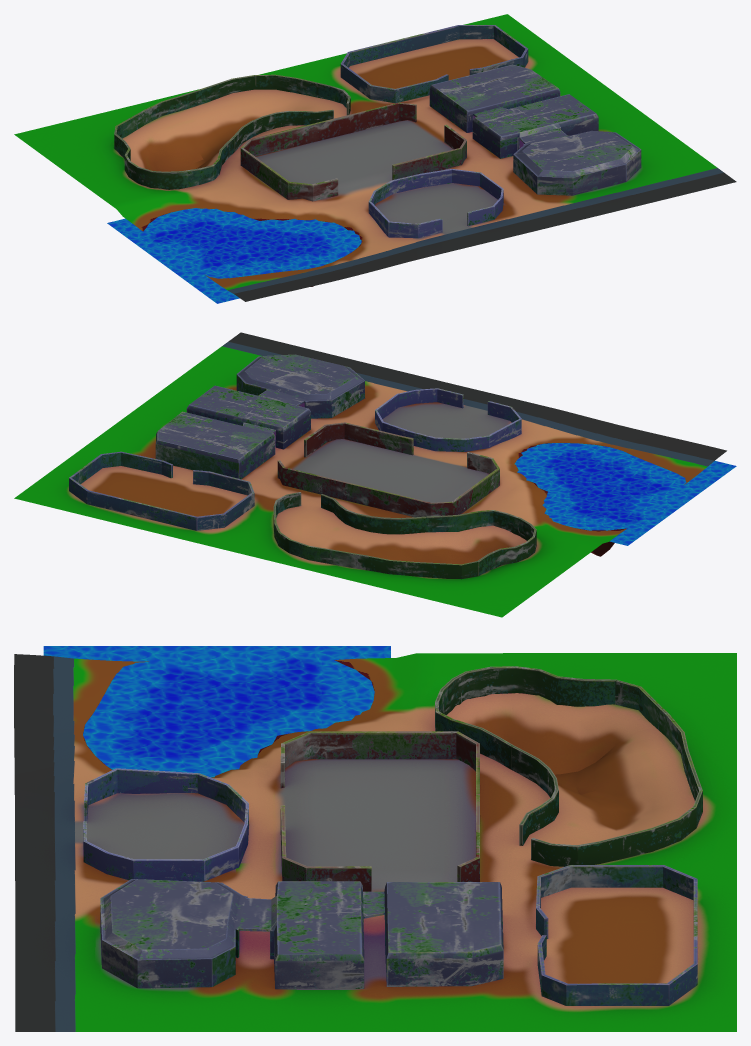
Rendered from Maps Scavenger.fbx.
The picture shows the model from 3 angles, top to bottom: view 1: azimuth 30°, elevation 25°; view 2: azimuth 150°, elevation 25°; view 3: azimuth 270°, elevation 25°; orthographic projection. The views are drawn at different scales.
Parts seen in each view (by area): view 1: Tanah, Ruangan Workshop, Gudang, Tempat Jual, Air (cuma texture kok santai aja), Tembok TPA Umum, Tembok Tempat Sortir, Tembok TPA Elektronik, Tembok Rumah; view 2: Tanah, Ruangan Workshop, Gudang, Tempat Jual, Air (cuma texture kok santai aja), Tembok TPA Umum, Tembok Tempat Sortir, Tembok TPA Elektronik, Tembok Rumah; view 3: Tanah, Ruangan Workshop, Gudang, Tempat Jual, Air (cuma texture kok santai aja), Tembok TPA Umum, Tembok Tempat Sortir, Tembok TPA Elektronik, Tembok Rumah.
Part boxes in pixels (x1,y1,x2,y2): Tanah: (14,14,736,301); Ruangan Workshop, Gudang, Tempat Jual: (429,64,641,195); Air (cuma texture kok santai aja): (107,208,361,303); Tembok TPA Umum: (114,74,350,189); Tembok Tempat Sortir: (240,102,466,201); Tembok TPA Elektronik: (340,25,528,103); Tembok Rumah: (368,169,503,238); Tanah: (14,332,726,617); Ruangan Workshop, Gudang, Tempat Jual: (155,354,364,479); Air (cuma texture kok santai aja): (514,443,736,545); Tembok TPA Umum: (273,492,536,579); Tembok Tempat Sortir: (277,422,499,517); Tembok TPA Elektronik: (69,451,254,530); Tembok Rumah: (375,388,521,451); Tanah: (14,653,736,1031); Ruangan Workshop, Gudang, Tempat Jual: (100,879,503,989); Air (cuma texture kok santai aja): (43,646,390,777); Tembok TPA Umum: (435,666,702,866); Tembok Tempat Sortir: (280,731,479,891); Tembok TPA Elektronik: (536,865,697,1005); Tembok Rumah: (83,768,248,881).
Bounding box in the file's own units: 10507 × 1530 × 8188.
Materials: 7 (7 with a texture image).
